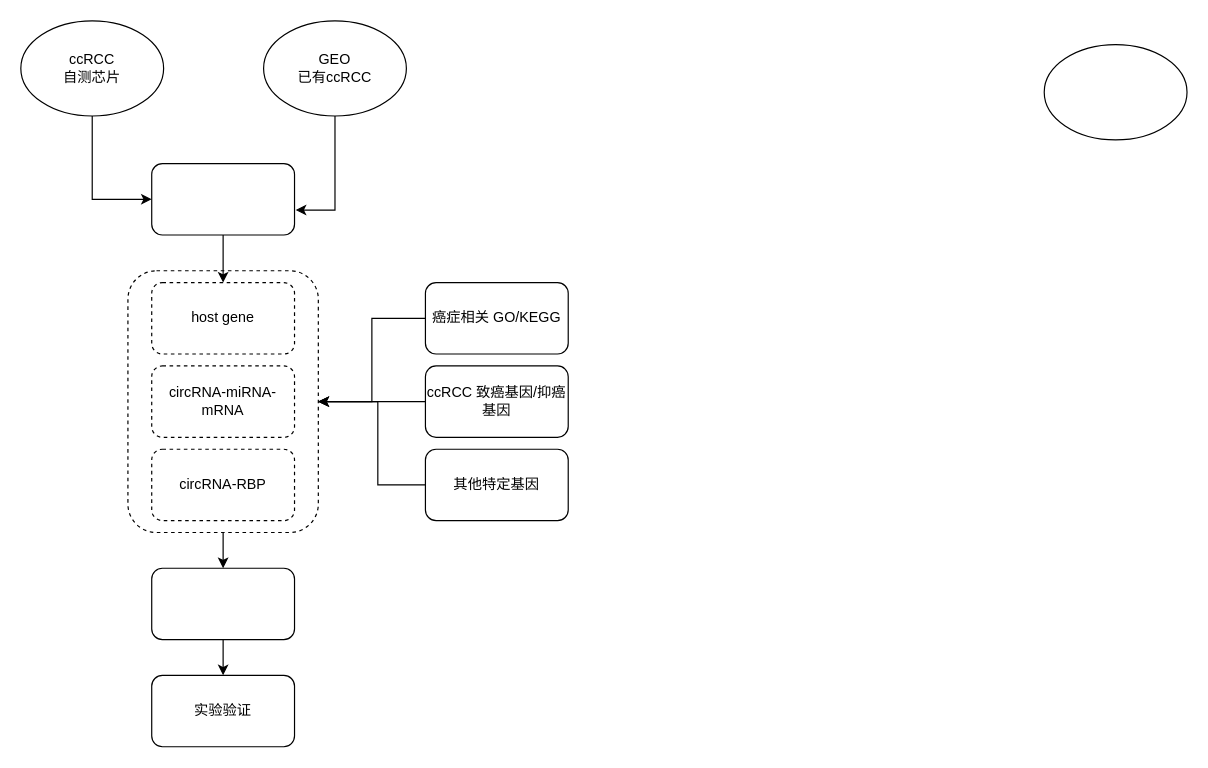
This 1208x768 diagram has some shape labels left out. The shapes that lost their labels are listed below. From the top down, each one's box as (x1, y1, x2, y2) in pixels, then its label:
(1043, 43, 1187, 140): GEO 大样品
(151, 162, 295, 235): 差异 circRNA 求交集
(151, 567, 295, 640): 特定 circRNA 分子
